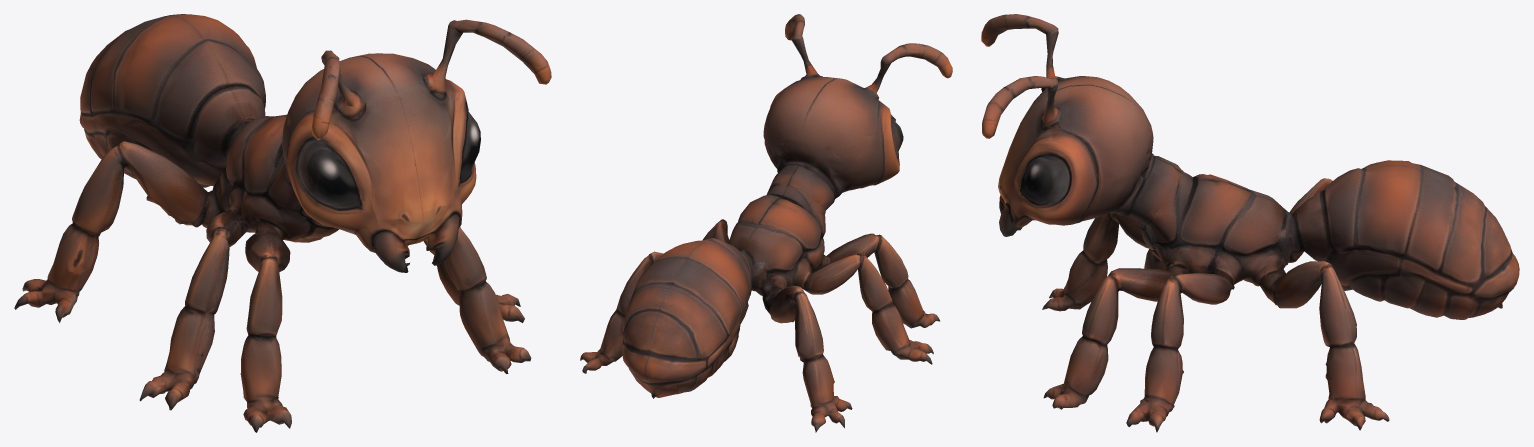
3 views of the same model, side by side, from view 1: azimuth 30°, elevation 25°; view 2: azimuth 150°, elevation 25°; view 3: azimuth 270°, elevation 25° (orthographic). The views are drawn at different scales.
Parts seen in each view (by area): view 1: Torso, Mesh_0.004, Mesh_0.006, Mesh_0.005, Mesh_0.003, Mesh_0.002; view 2: Torso, Mesh_0.004, Mesh_0.005, Mesh_0.006, Mesh_0.001, Mesh_0.002; view 3: Torso, Mesh_0.001, Mesh_0.002, Mesh_0.003, Mesh_0.006, Mesh_0.004.
Part boxes in pixels (x1,y1,x2,y2): Torso: (79, 14, 551, 272); Mesh_0.004: (14, 141, 218, 322); Mesh_0.006: (240, 226, 291, 432); Mesh_0.005: (139, 201, 241, 410); Mesh_0.003: (444, 227, 531, 373); Mesh_0.002: (423, 227, 524, 322); Torso: (622, 14, 952, 398); Mesh_0.004: (764, 285, 852, 432); Mesh_0.005: (805, 253, 933, 364); Mesh_0.006: (824, 233, 939, 328); Mesh_0.001: (580, 251, 663, 373); Mesh_0.002: (703, 219, 729, 243); Torso: (981, 14, 1519, 319); Mesh_0.001: (1263, 261, 1389, 430); Mesh_0.002: (1126, 267, 1236, 432); Mesh_0.003: (1043, 259, 1182, 409); Mesh_0.006: (1042, 213, 1149, 311); Mesh_0.004: (1285, 178, 1352, 290).
Size of the model in its own units: 1.37 by 1.27 by 2.
Materials: 1 (1 with a texture image).
